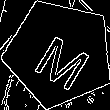M_NE: (26, 20, 93, 87)
